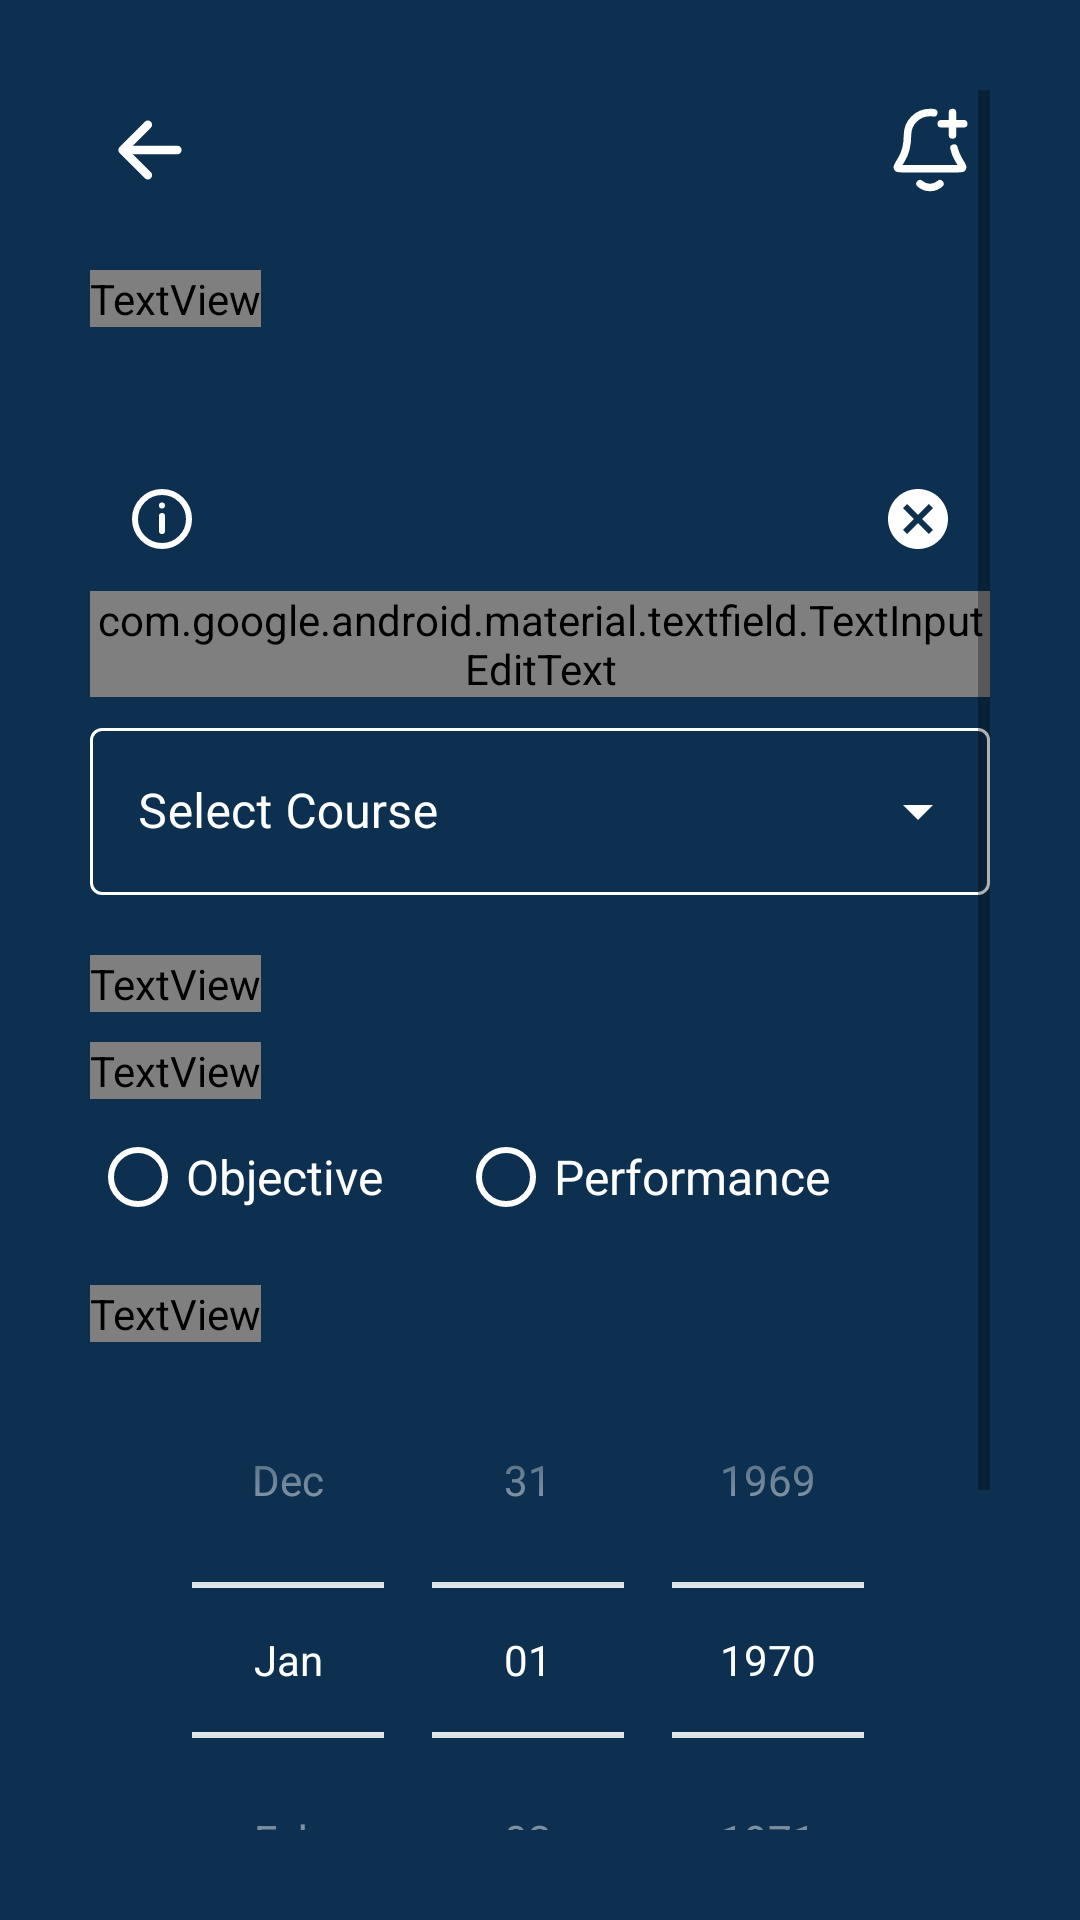

Where to tap for icons on this 1080x1920 app screen, as [x,y]:
arrow back: [150,150]
bell plus: [930,150]
